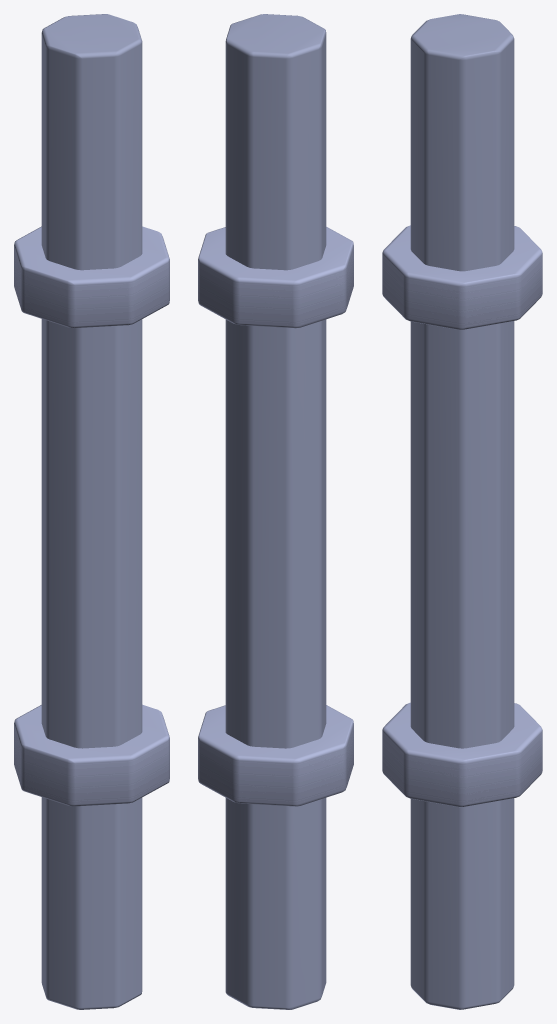
File: gutter-vertical.glb
The picture shows the model from 3 angles, left to right: view 1: azimuth 30°, elevation 25°; view 2: azimuth 150°, elevation 25°; view 3: azimuth 270°, elevation 25°; orthographic projection.
Parts seen in each view (by area): view 1: gutter-vertical; view 2: gutter-vertical; view 3: gutter-vertical.
Part boxes in pixels (bbox=[...]): gutter-vertical: bbox=[14, 14, 169, 1009]; gutter-vertical: bbox=[198, 14, 353, 1009]; gutter-vertical: bbox=[382, 14, 542, 1009].
Bounding box in the file's own units: 0.3044 × 2 × 0.3044.
Materials: 1 (1 with a texture image).
